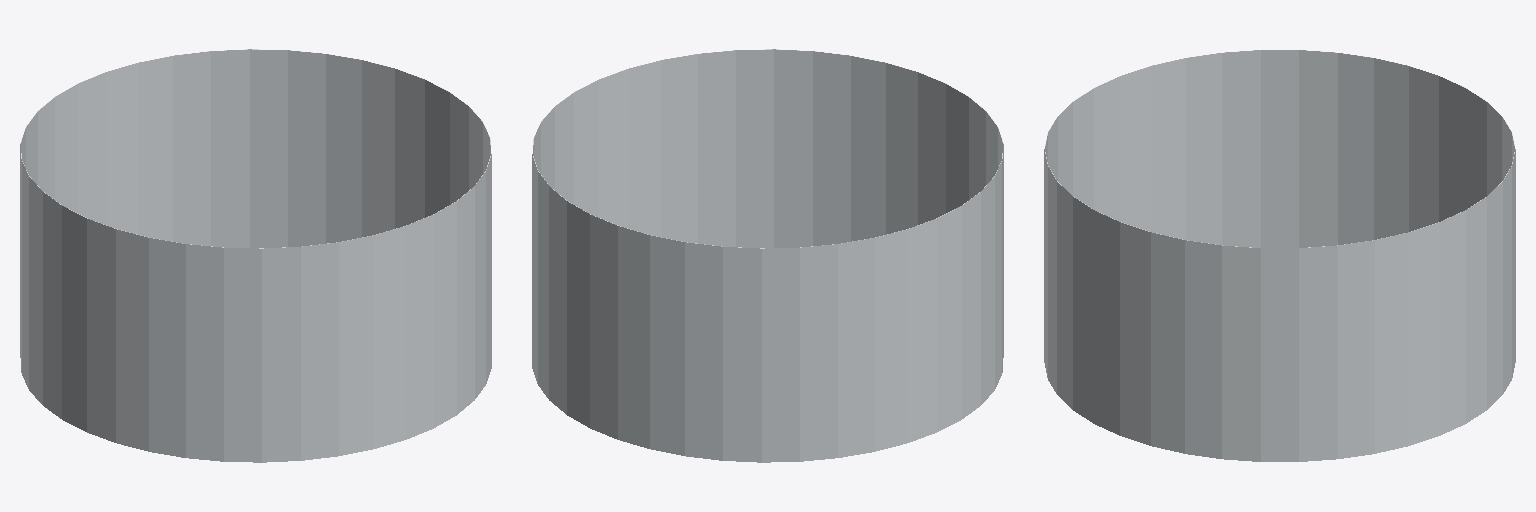
robot.urdf — bucket1:
<robot
  name="bucket1">
  <link
    name="bucket1">
    <inertial>
      <origin
        xyz="1.6389E-31 -8.31828789402452E-16 0.074656"
        rpy="0 0 0" />
      <mass
        value="1.53" />
      <inertia
        ixx="0.0661248278368177"
        ixy="-1.08329395295864E-31"
        ixz="2.88085329833831E-32"
        iyy="0.0661248278368195"
        iyz="9.8598571098971E-17"
        izz="0.10346149980676" />
    </inertial>
    <visual>
      <origin
        xyz="0 0 0"
        rpy="1.5707963267949 0 0" />
      <geometry>
        <mesh
          filename="package://bucket1/meshes/bucket1.STL" />
      </geometry>
      <material
        name="">
        <color
          rgba="0.89804 0.91765 0.92941 1" />
      </material>
    </visual>
    <collision>
      <origin
        xyz="0 0 0"
        rpy="1.5707963267949 0 0" />
      <geometry>
        <mesh
          filename="package://bucket1/meshes/bucket1.STL" />
      </geometry>
    </collision>
  </link>
  <gazebo reference="bucket1">
    <material>Gazebo/Red</material>
    </gazebo>
    <gazebo>
    <static>true</static>
</gazebo>
</robot>

--- What the picture shows (computed from the rendered views, not written in the file) ---
3 views of the same robot in one strip: view 1: azimuth 30°, elevation 25°; view 2: azimuth 150°, elevation 25°; view 3: azimuth 270°, elevation 25° (orthographic).
Model bucket1 with 1 links and 0 joints (none), rooted at bucket1, posed all joints at 0.
Links seen in each view (by area): view 1: bucket1; view 2: bucket1; view 3: bucket1.
Boxes of the visible links, x1=… form: bucket1: x1=20, y1=49, x2=491, y2=462; bucket1: x1=532, y1=49, x2=1003, y2=462; bucket1: x1=1044, y1=50, x2=1515, y2=461.
Size in the robot's own frame: 0.5989 by 0.601 by 0.301 metres.
Meshes: 1 distinct files referenced, 1 mesh visuals loaded (1 binary STL).